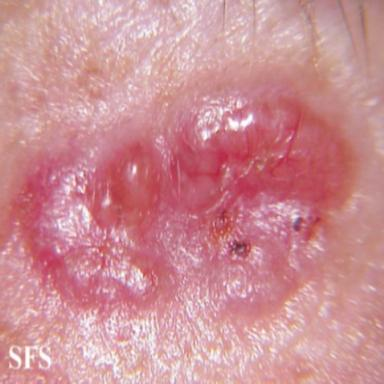basal-cell-carcinoma: (20, 81, 346, 314)
